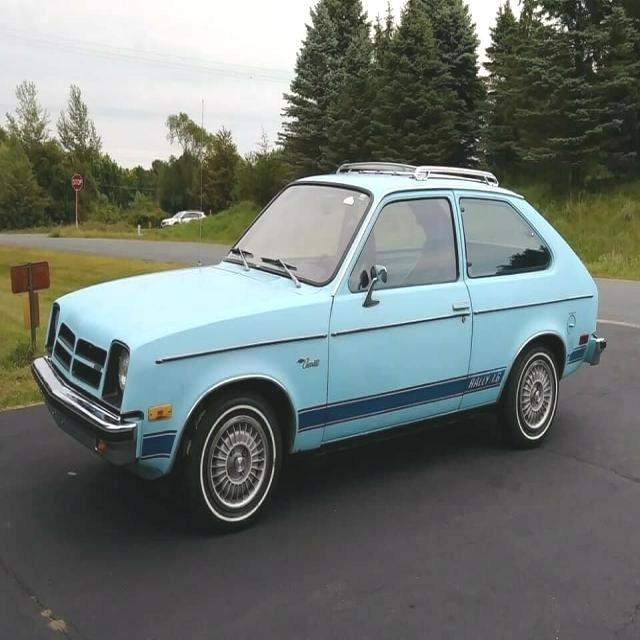car: (31, 163, 609, 532)
